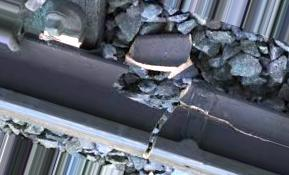tracks_fault: (101, 20, 266, 165)
